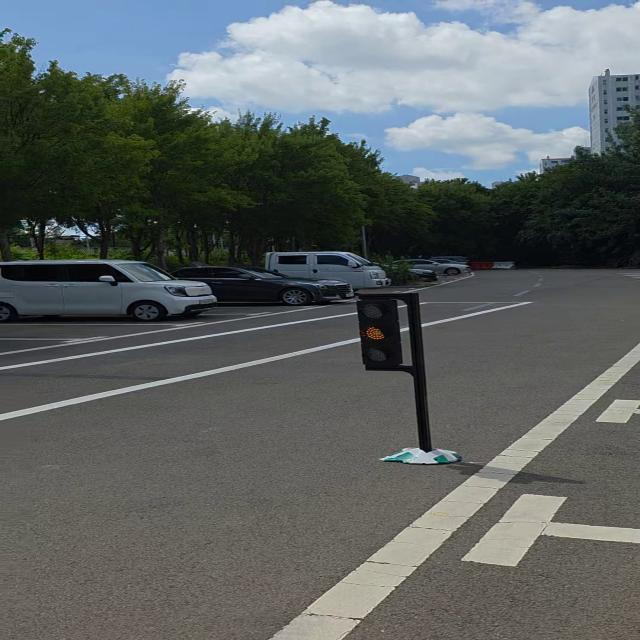yellow: (356, 292, 404, 374)
